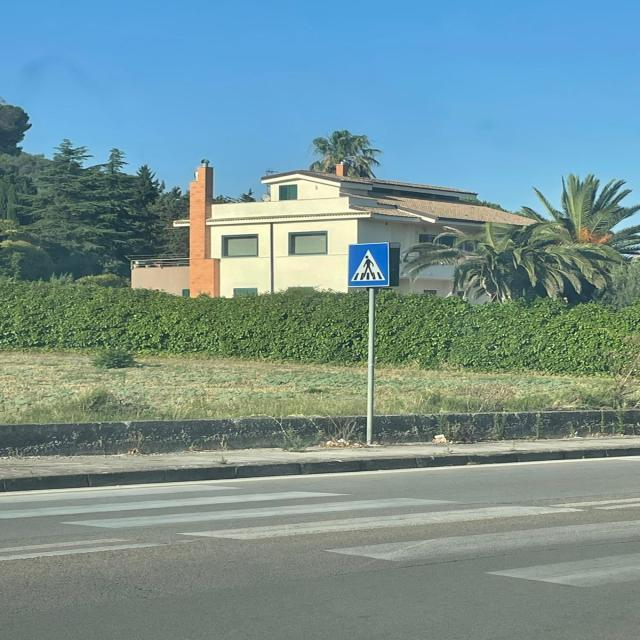info_crosswalk: (346, 242, 391, 289)
